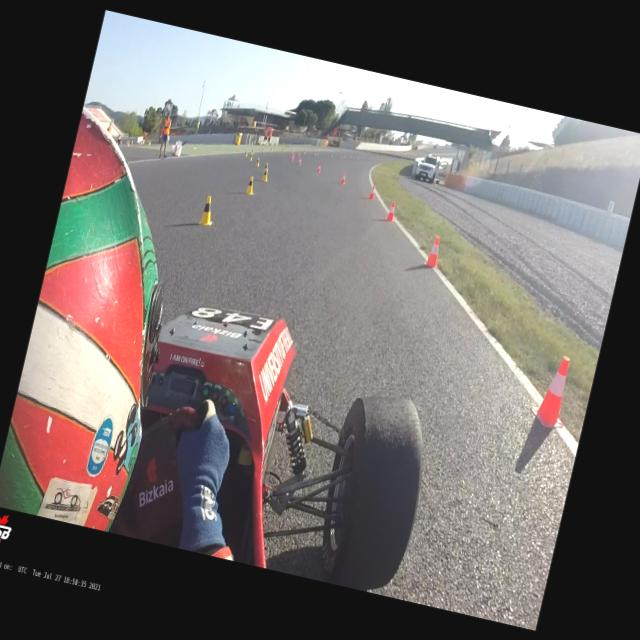orange_cone: (529, 352, 578, 432), (422, 234, 445, 270), (384, 200, 398, 222), (368, 185, 376, 200), (339, 172, 346, 184), (315, 162, 321, 172), (296, 157, 302, 165), (290, 153, 294, 161), (296, 152, 300, 158)
yellow_cone: (198, 194, 218, 227), (244, 176, 258, 197), (260, 167, 270, 182), (254, 156, 260, 168), (248, 152, 253, 160), (264, 162, 268, 171), (244, 150, 248, 157), (250, 148, 254, 155), (261, 147, 265, 153), (269, 146, 273, 152)
